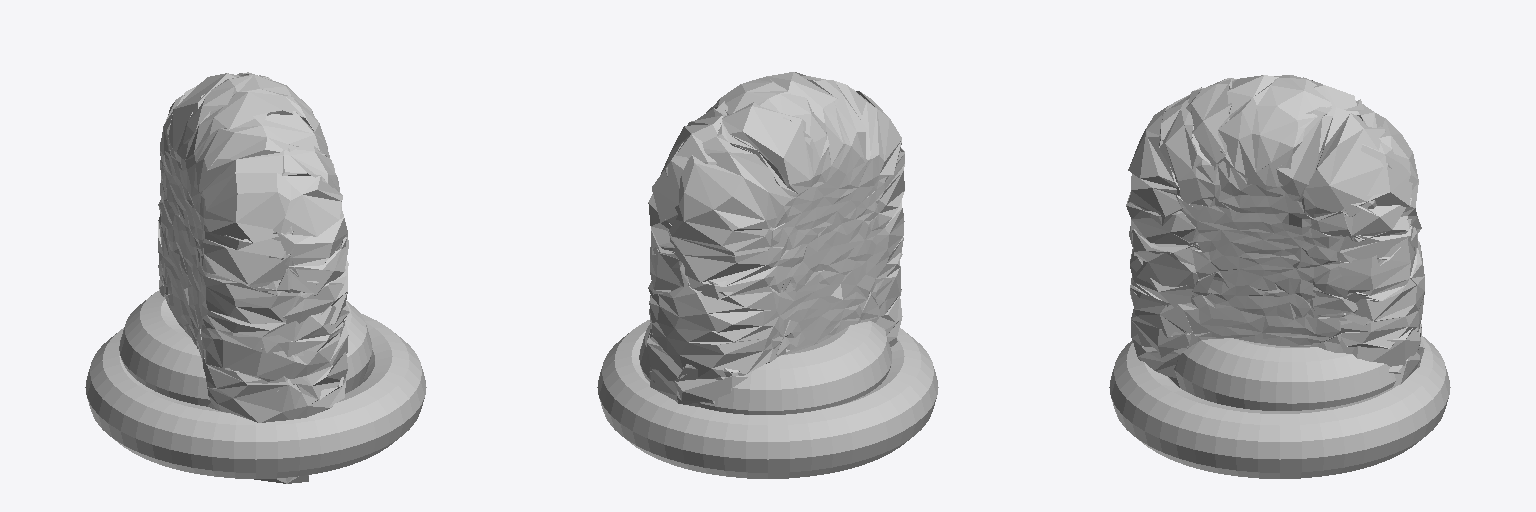
The model's file is tomb.obj.
3 views of the same model, side by side, from view 1: azimuth 30°, elevation 25°; view 2: azimuth 150°, elevation 25°; view 3: azimuth 270°, elevation 25° (orthographic).
Visible parts, largest first — view 1: tomb; view 2: tomb; view 3: tomb.
Boxes of the visible parts, <box> form: tomb: <box>85,72,426,483</box>; tomb: <box>597,72,938,478</box>; tomb: <box>1109,75,1450,478</box>.
Size of the model in its own units: 4.01 by 4.51 by 4.01.